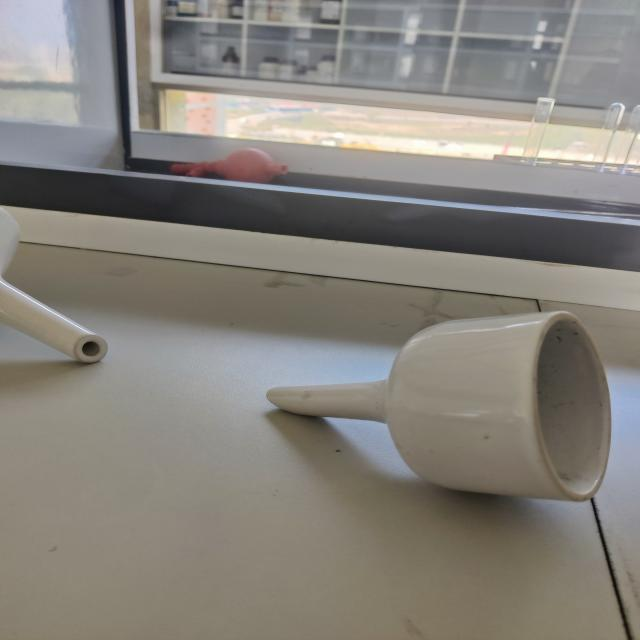Buchner_Funnel: (226, 274, 640, 550)
